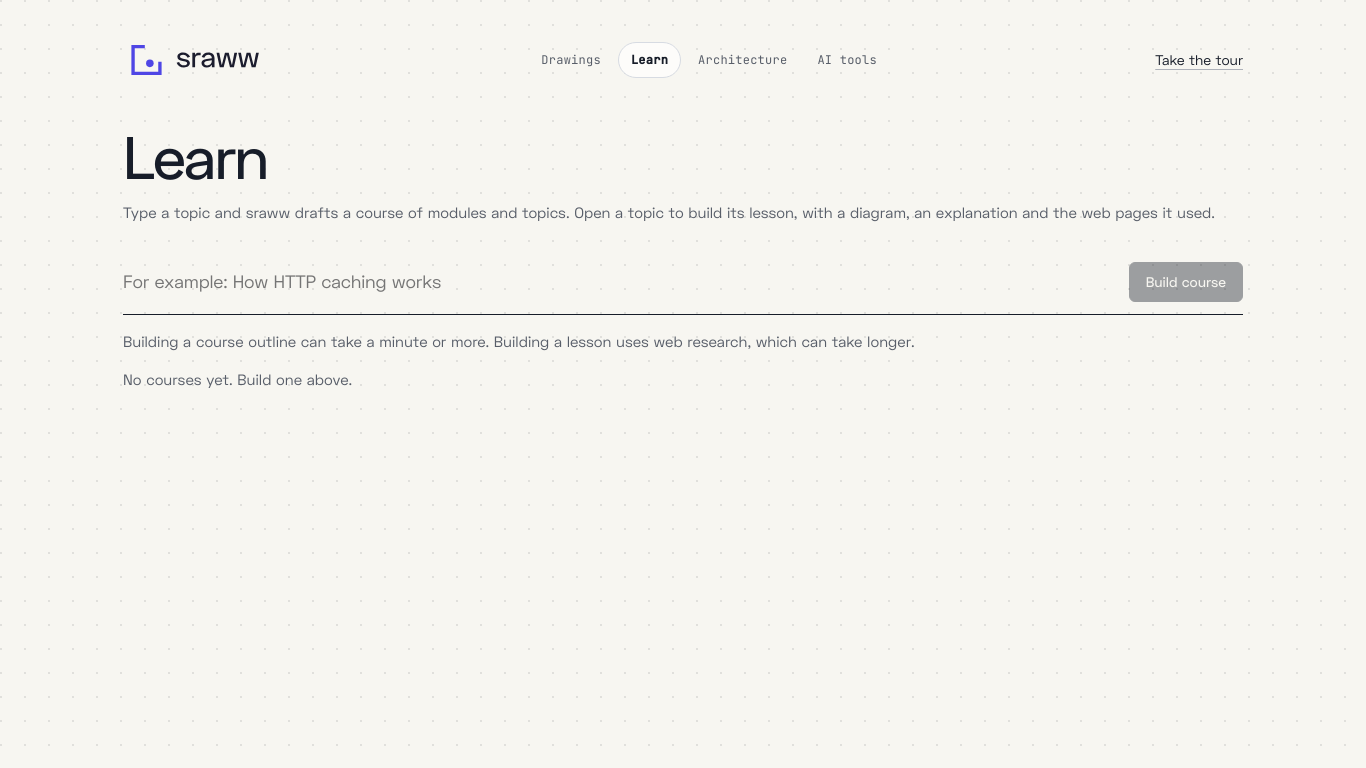
LearnPage › says the outline is being built and locks the form while the request runs
Type "HTTP caching" into the field named "Topic".
click(620, 282); type("HTTP caching")  # box [123, 256, 1117, 308]
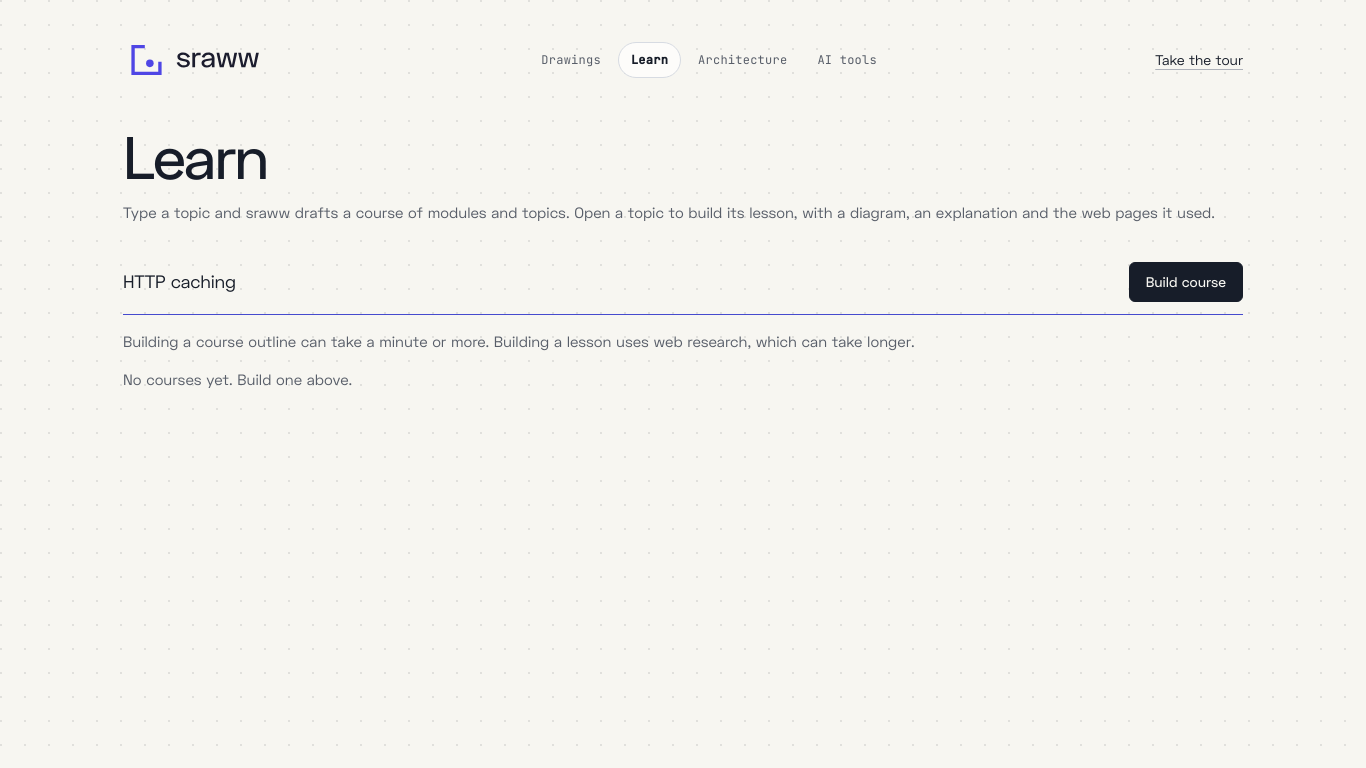
Click the button "Build course".
click(1186, 282)  # box [1129, 262, 1243, 302]
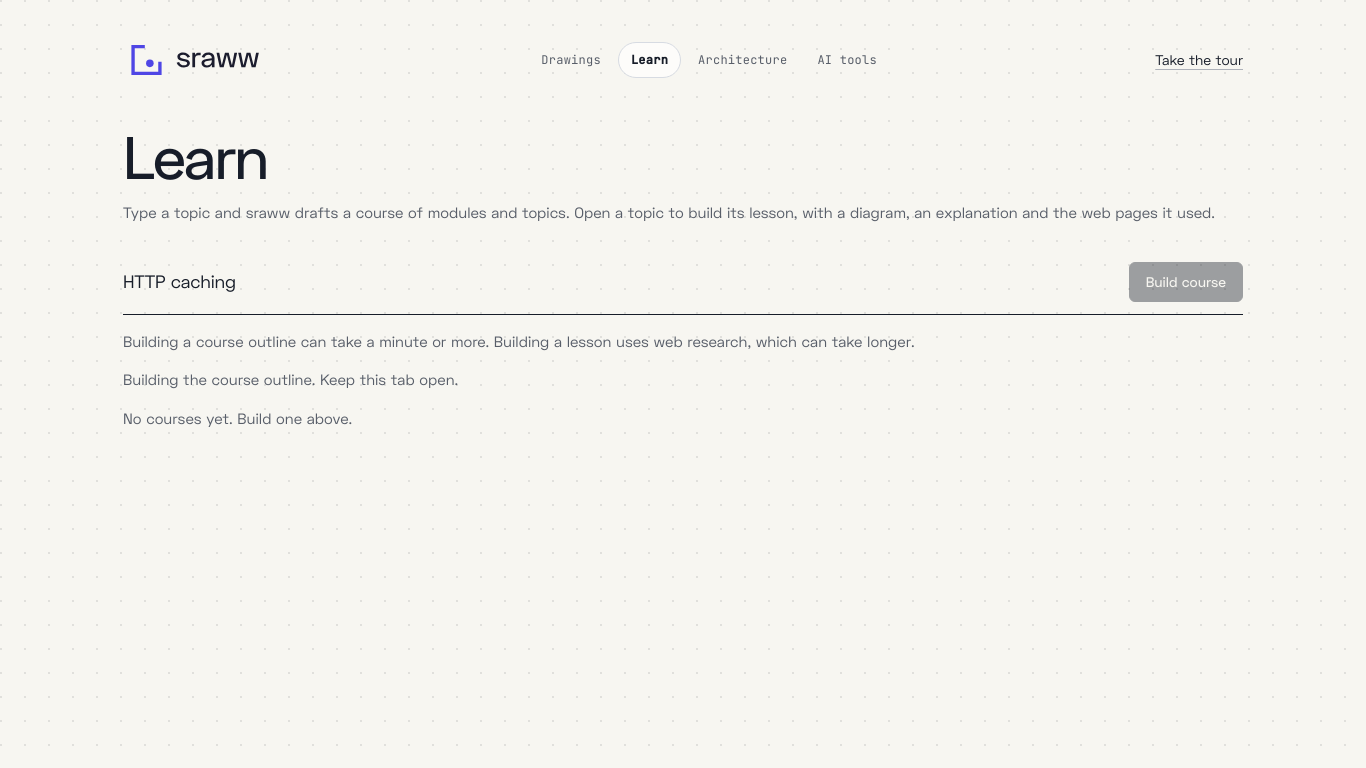
Expected: the field named "Topic" is disabled, [123, 256, 1117, 308]
Result: the text "Building the course outline. Keep this tab open." is shown at [123, 370, 458, 388]
Result: the button "Build course" is disabled at [1129, 262, 1243, 302]
